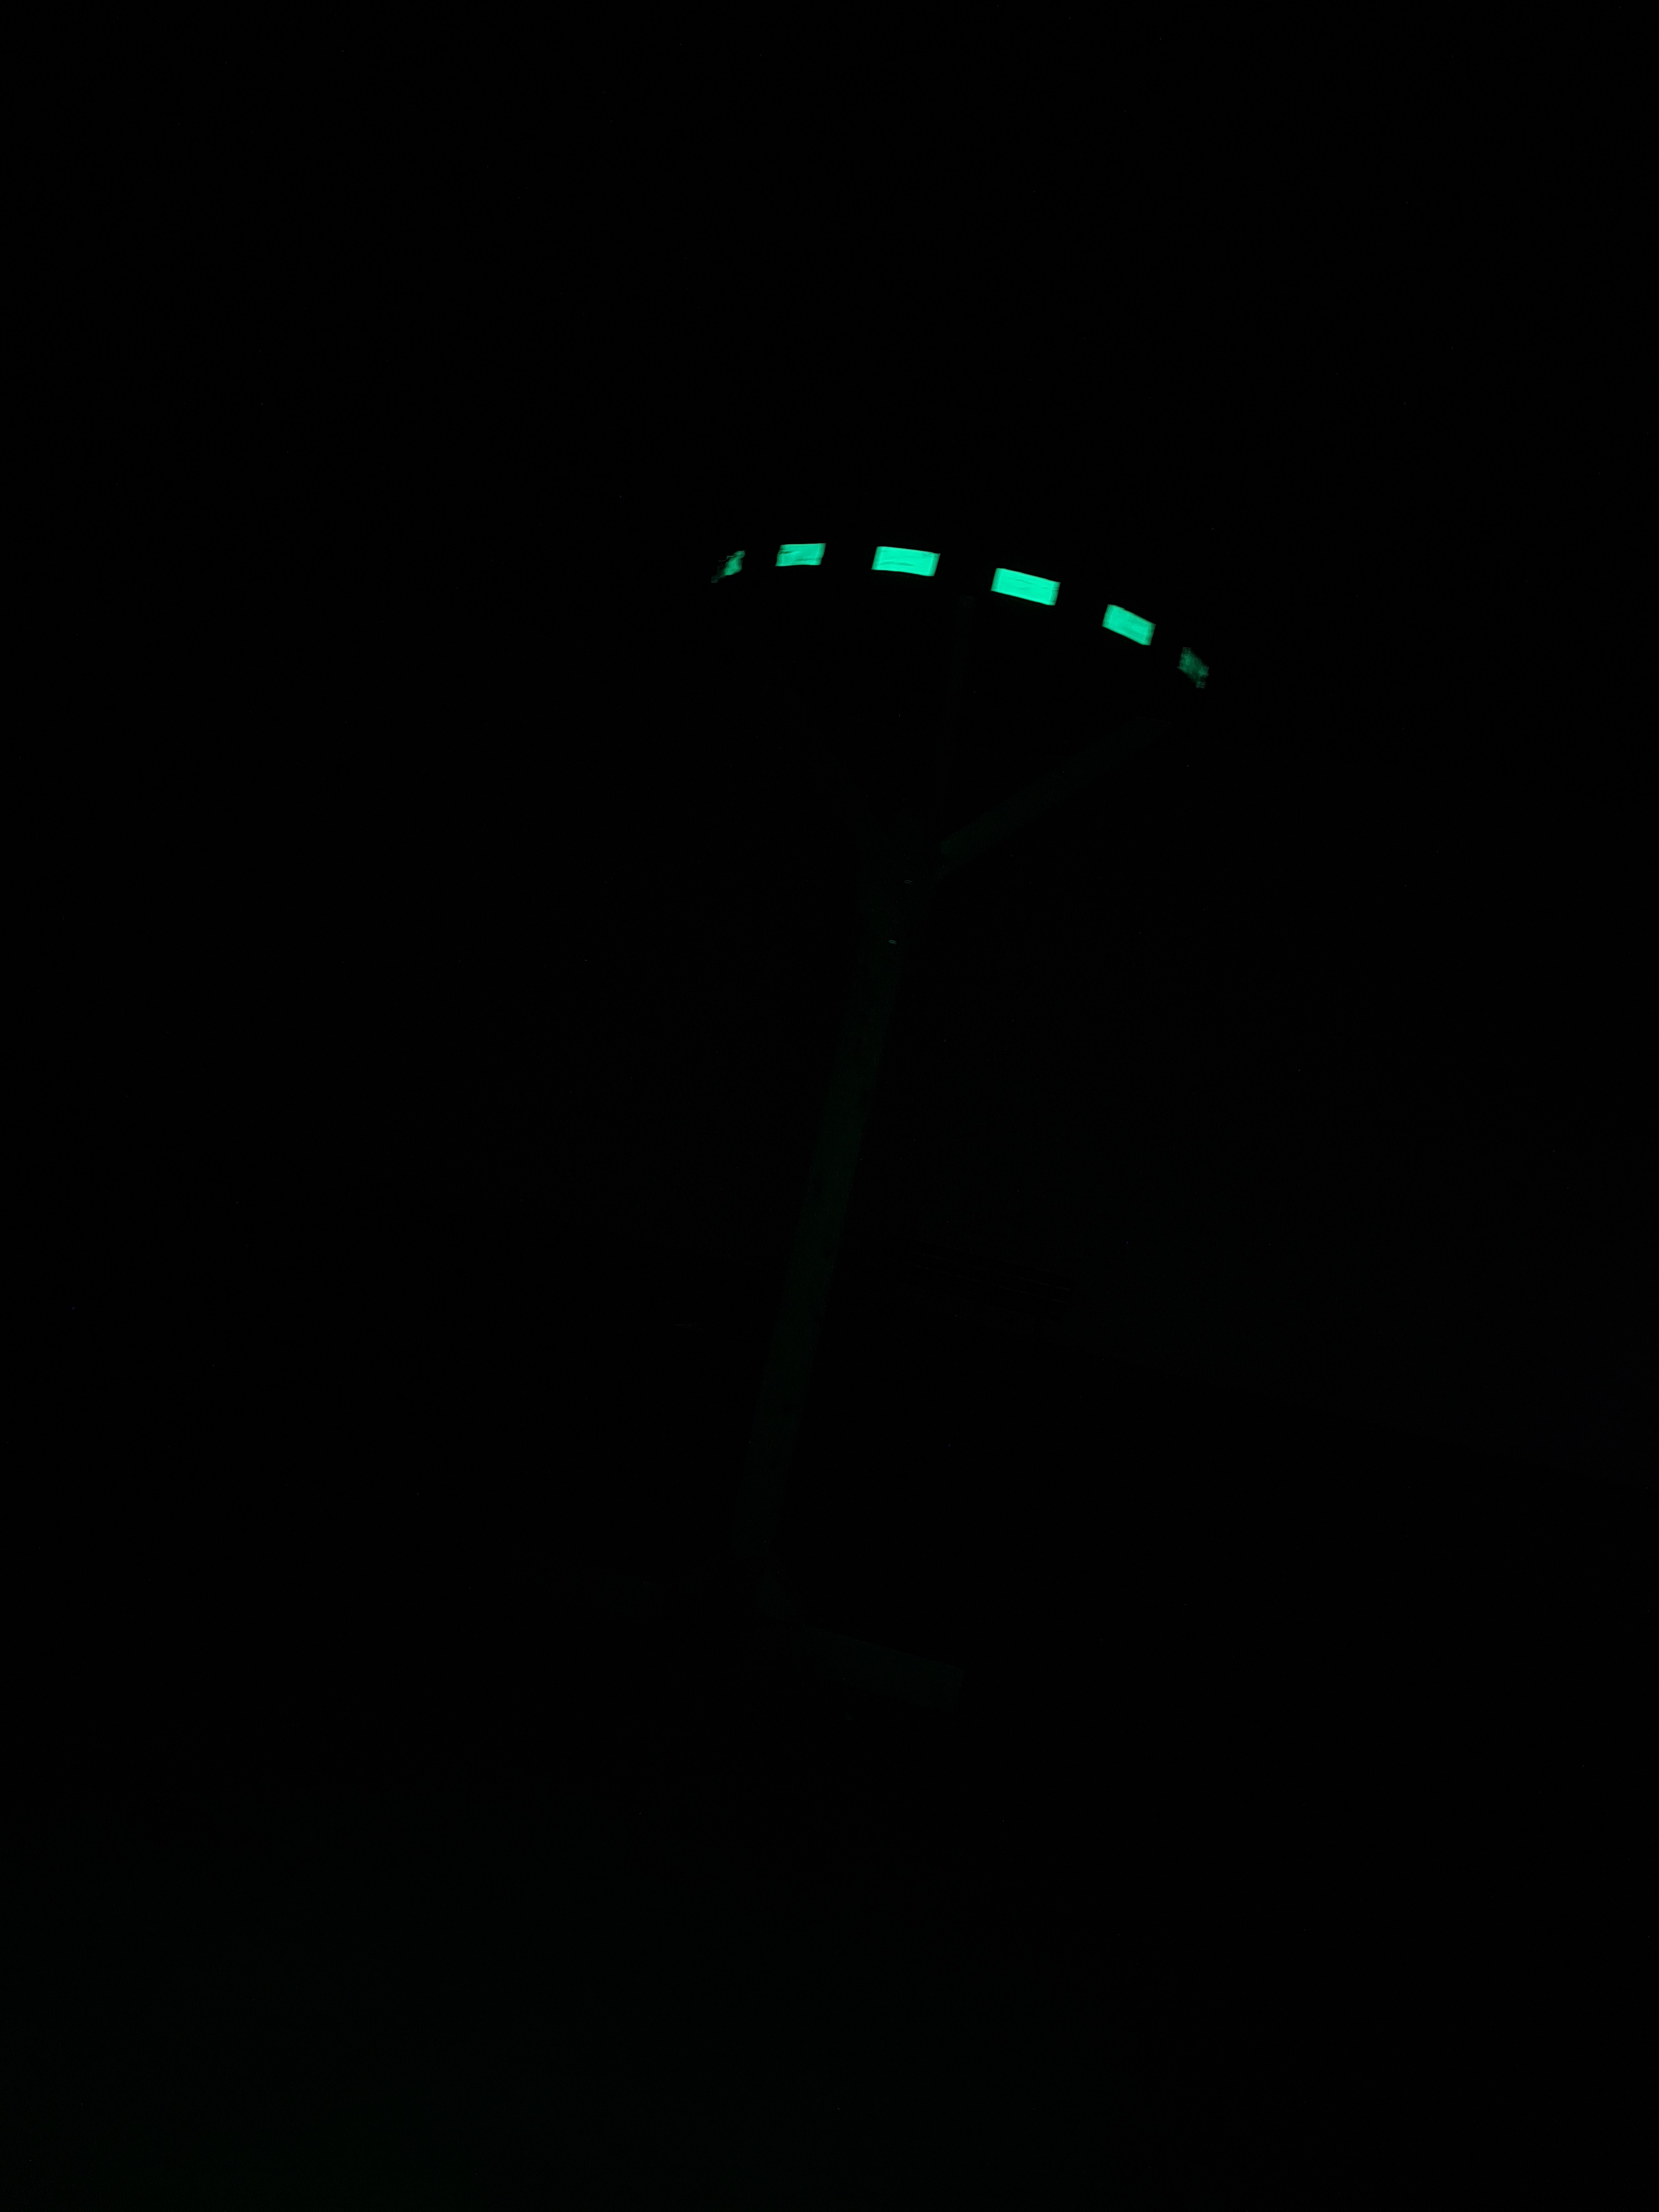hoop: (714, 524, 1213, 698)
